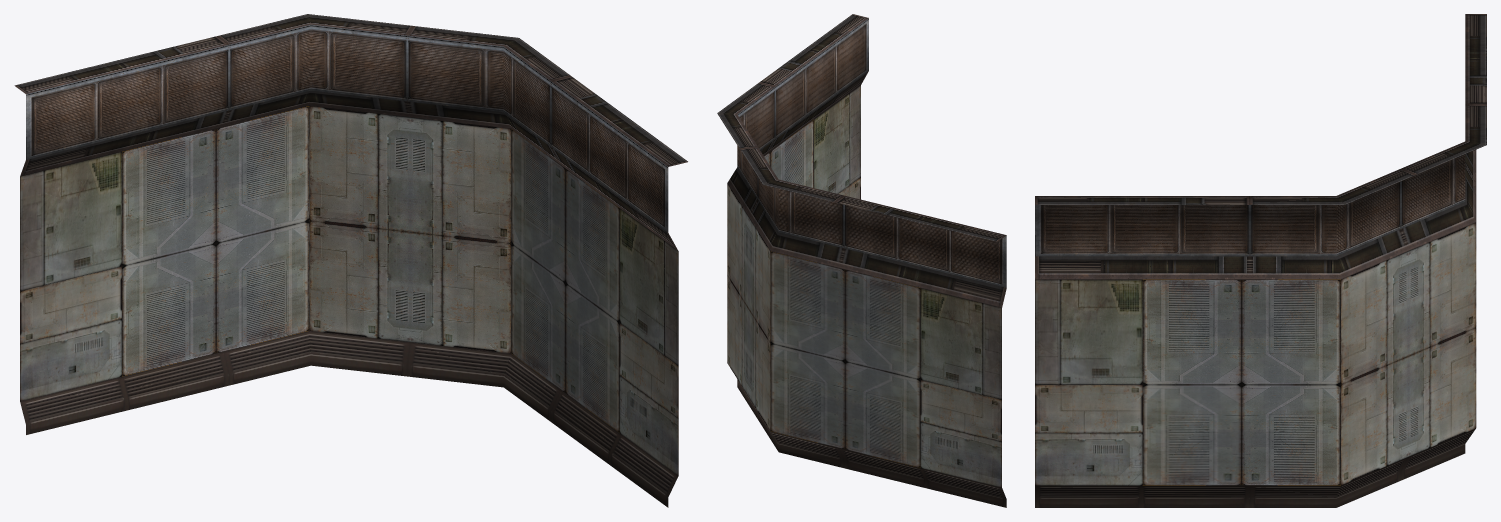
The model's file is ARC_Wall_High_Corner.FBX.
3 views of the same model, side by side, from view 1: azimuth 30°, elevation 25°; view 2: azimuth 150°, elevation 25°; view 3: azimuth 270°, elevation 25° (orthographic). The views are drawn at different scales.
Visible parts, largest first — view 1: ARC_Wall_High_Corner; view 2: ARC_Wall_High_Corner; view 3: ARC_Wall_High_Corner.
Boxes of the visible parts, x1=… form: ARC_Wall_High_Corner: x1=14, y1=14, x2=687, y2=507; ARC_Wall_High_Corner: x1=717, y1=14, x2=1006, y2=507; ARC_Wall_High_Corner: x1=1035, y1=14, x2=1486, y2=507.
Bounding box in the file's own units: 525 × 400 × 525.
1 material, 1 textured.
